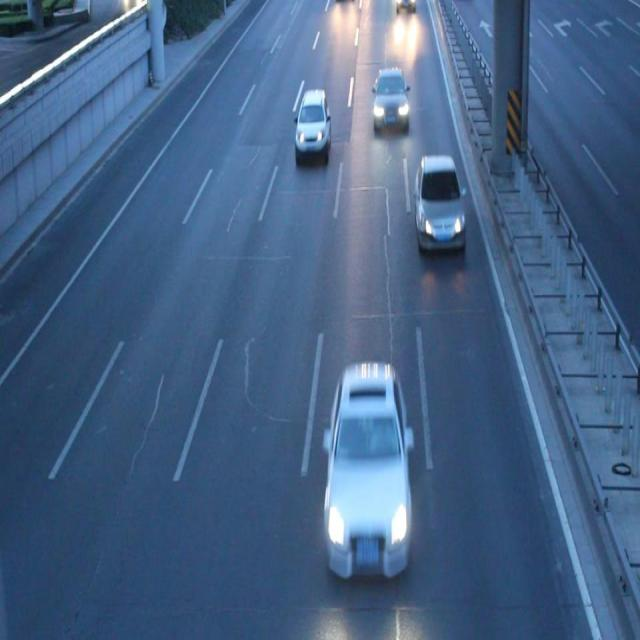car: (322, 361, 413, 576), (413, 154, 466, 251), (293, 88, 330, 154), (372, 67, 410, 131)
